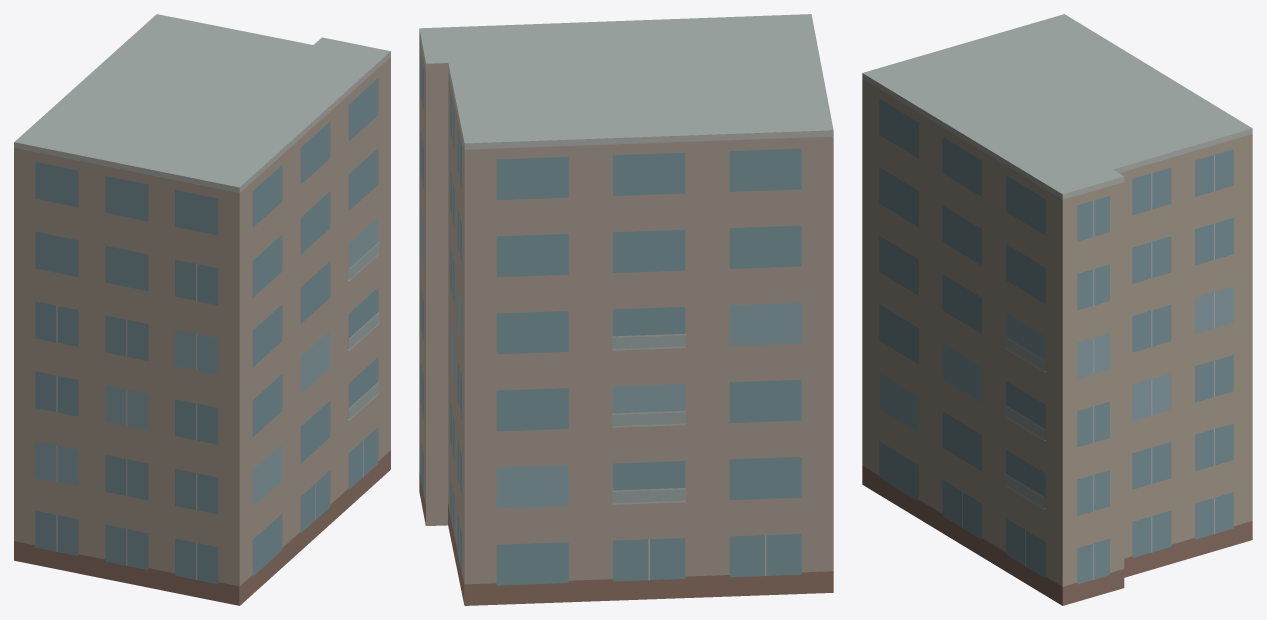
Rendered from survey-upis-33009455.glb.
The picture shows the model from 3 angles, left to right: view 1: azimuth 30°, elevation 25°; view 2: azimuth 150°, elevation 25°; view 3: azimuth 270°, elevation 25°; orthographic projection. The views are drawn at different scales.
Parts seen in each view (by area): view 1: survey-upis-33009455.tmp; view 2: survey-upis-33009455.tmp; view 3: survey-upis-33009455.tmp.
Boxes of the visible parts, x1,y1,x2,y2 form: survey-upis-33009455.tmp: [14, 14, 390, 605]; survey-upis-33009455.tmp: [419, 14, 833, 605]; survey-upis-33009455.tmp: [862, 14, 1252, 605].
Size of the model in its own units: 17.12 by 18.2 by 15.66.
